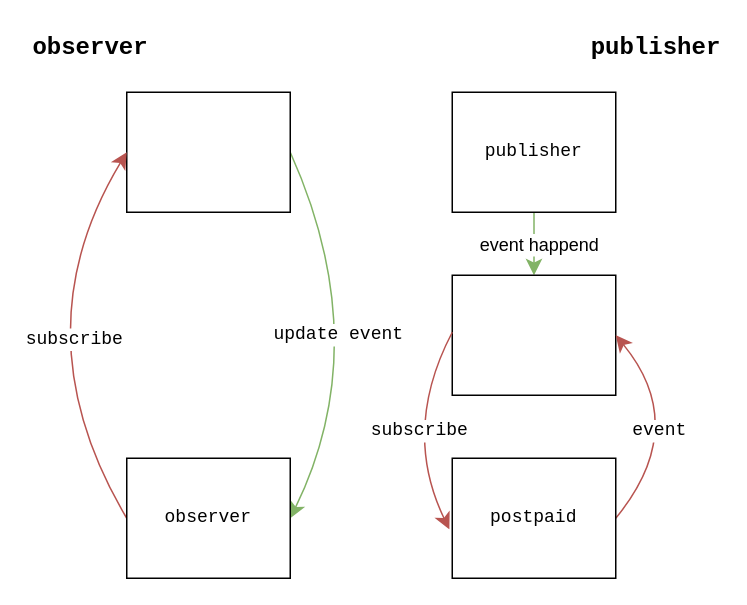
Image size: 747x605. Some labels were removed from this diagram. Each missing label, with the box of its shape:
channel: (451, 274, 616, 395)
subject: (125, 91, 290, 212)
